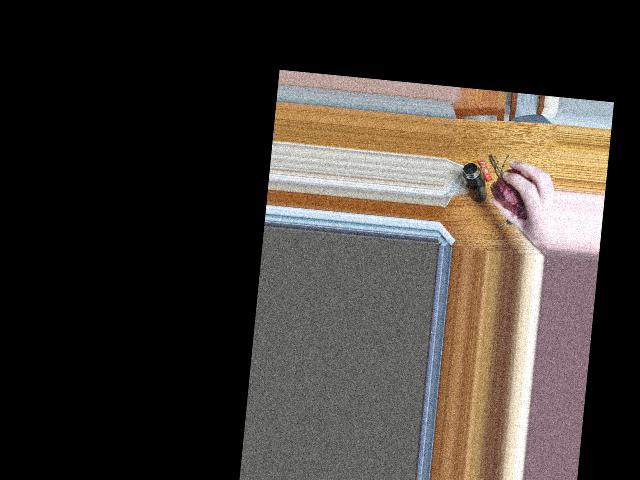onion: (491, 168, 533, 223)
